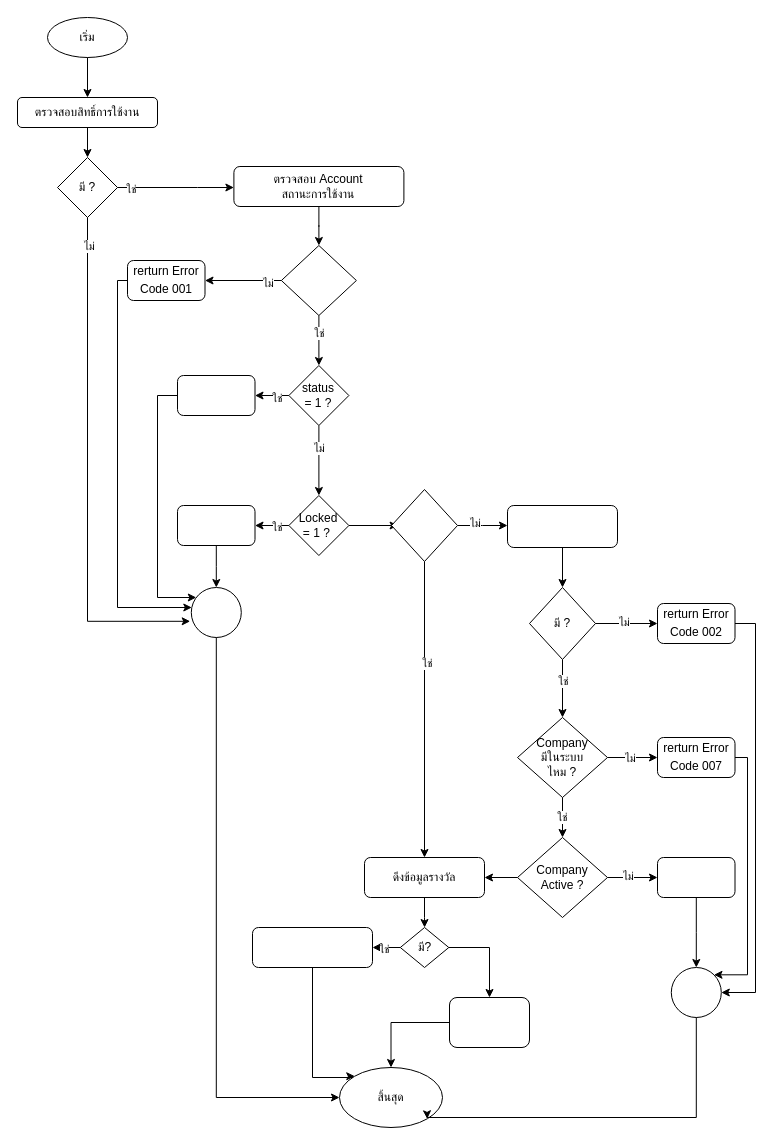
Some shapes in this 781 by 1145 pixel diagram are drawn without their labels. The centre of each missing label's shape, as x and y in pixels:
rerturn Error Code 004: (215,395)
rerturn Error Code 011: (215,525)
rerturn Error Code 051: (695,877)
return Error code 056: (489,1022)
Super Admin ?: (424,525)
ตรวจสอบสิทธิ์การใช้งาน Company นี้ไหม: (562,526)
มีใน ระบบ ?: (318,280)
ส่งกลับข้อมูลรางวัล: (312,947)
